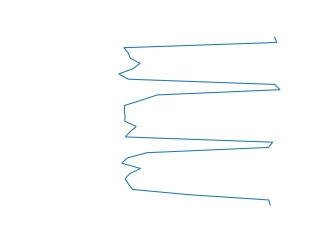majorRiverChannelBar: (116, 37, 284, 206)
